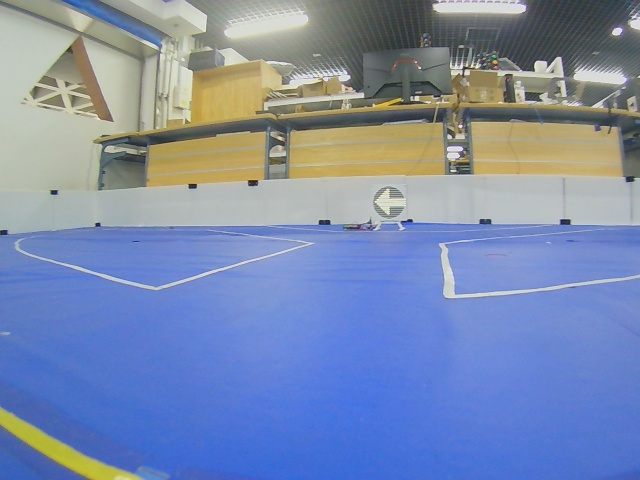left_yellow: (373, 186, 406, 219)
